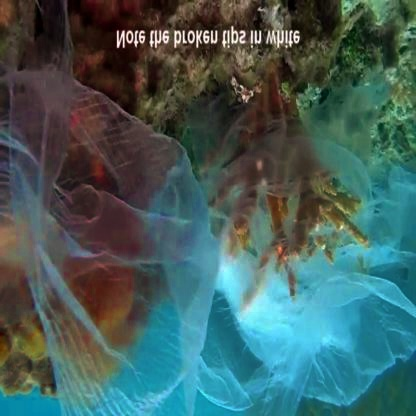pbag: (0, 4, 224, 416), (168, 51, 416, 416)
